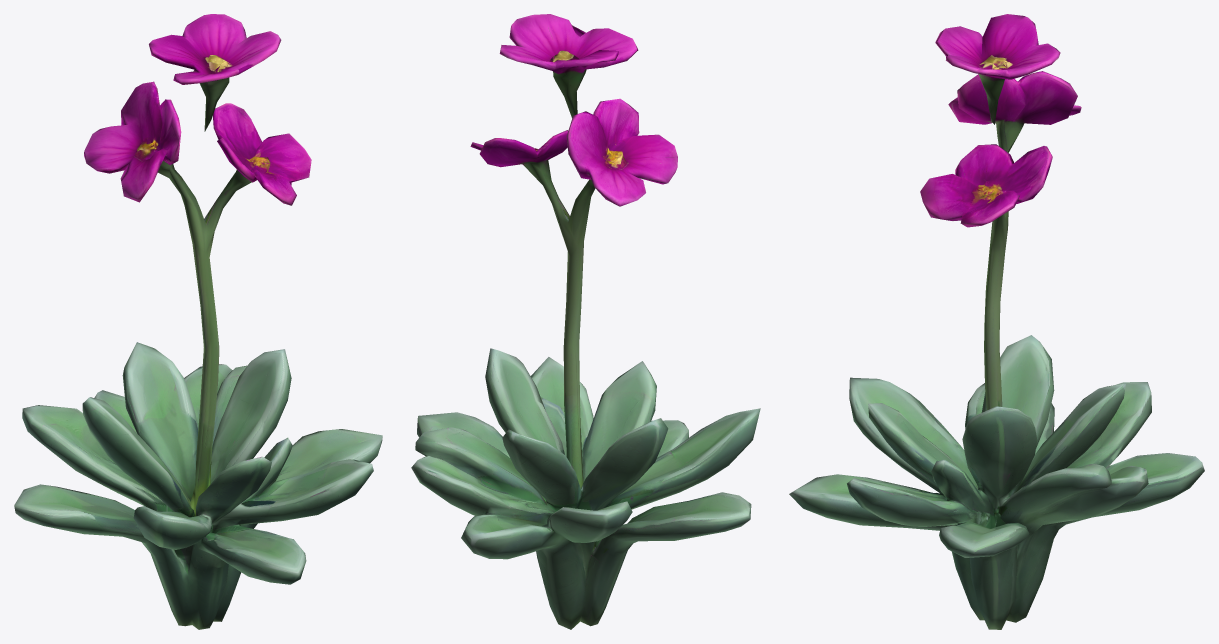
The picture shows the model from 3 angles, left to right: view 1: azimuth 30°, elevation 25°; view 2: azimuth 150°, elevation 25°; view 3: azimuth 270°, elevation 25°; orthographic projection.
Visible parts, largest first — view 1: Mesh_0; view 2: Mesh_0; view 3: Mesh_0.
Part boxes in pixels (x1=…): Mesh_0: x1=14, y1=14, x2=382, y2=629; Mesh_0: x1=411, y1=14, x2=760, y2=629; Mesh_0: x1=789, y1=14, x2=1204, y2=629.
Size of the model in its own units: 1.21 by 1.91 by 1.23.
Materials: 1 (1 with a texture image).
